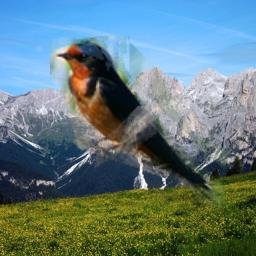Swallow: (50, 36, 226, 207)
